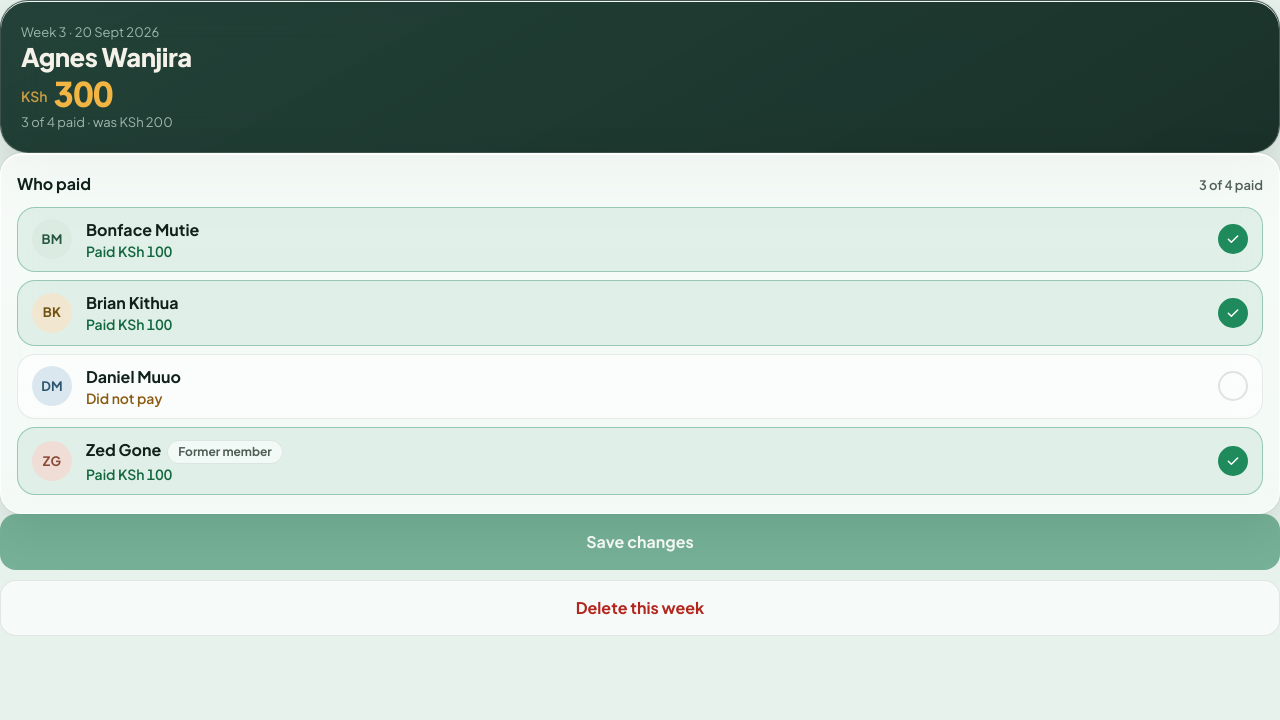
Test case: WeekEditor: deleting a recorded week › asks first, saying which week and what is lost, and deletes nothing until confirmed
This screenshot has width=1280, height=720.
Step 1. Click the button "Delete this week" → coordinates (640, 608), box [0, 580, 1279, 636]
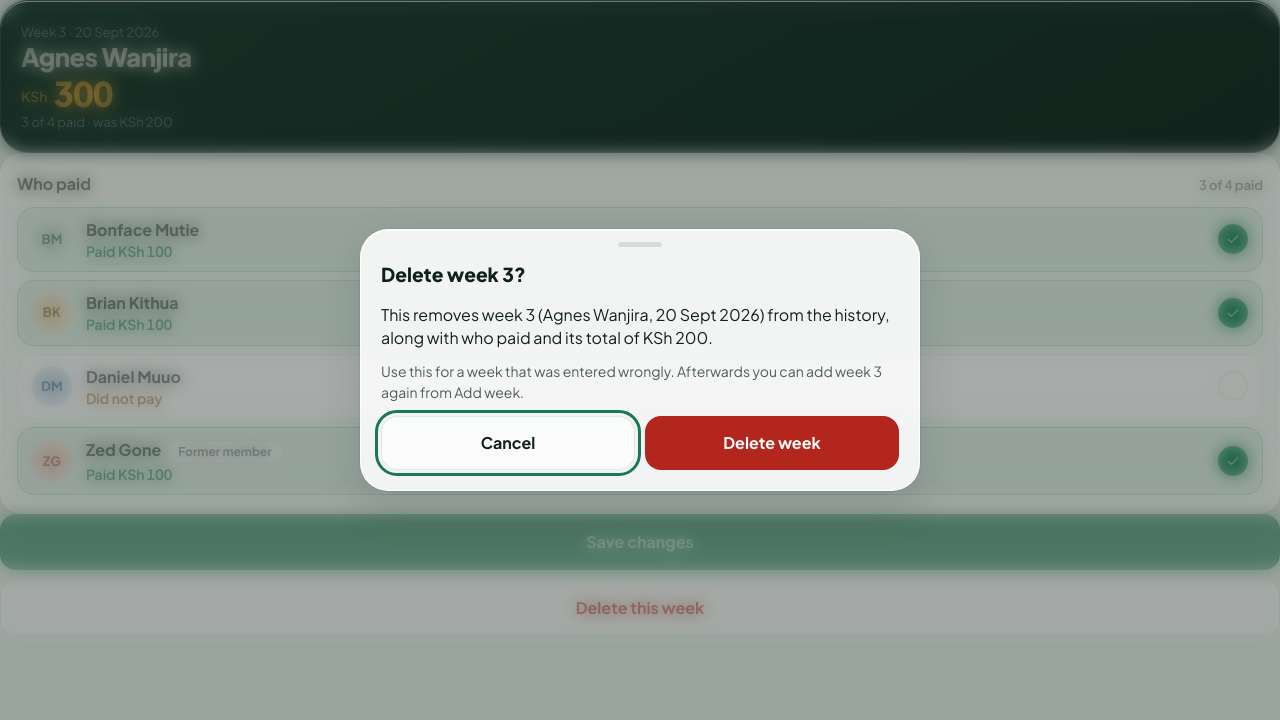
Now the dialog shows "Agnes Wanjira", box [543, 304, 649, 325]
Now the dialog shows "20 Sept 2026", box [656, 304, 760, 325]
Now the dialog shows "KSh 200", box [643, 327, 708, 348]
